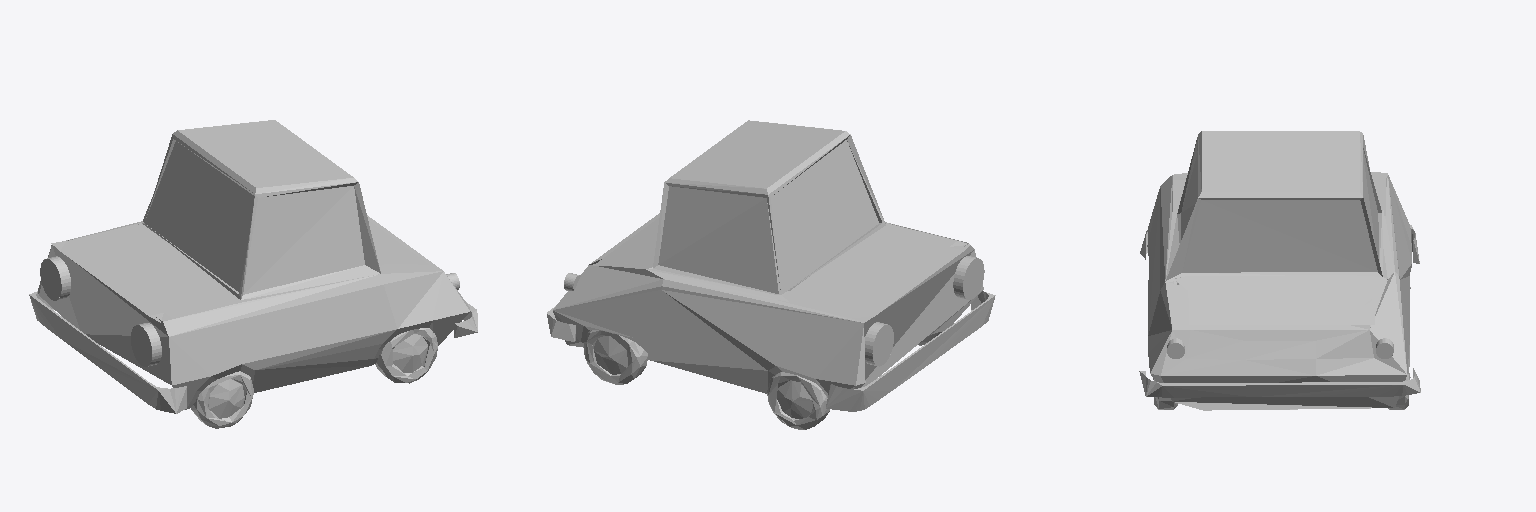
Rendered from car.obj.
3 views of the same model, side by side, from view 1: azimuth 30°, elevation 25°; view 2: azimuth 150°, elevation 25°; view 3: azimuth 270°, elevation 25° (orthographic).
Parts seen in each view (by area): view 1: Carro Carca_a Carca_a1 Carca_a2, Carro Plane_1, Carro Para-choques Para-choque_dianteiro Para-choque_dianteiro1, Carro Rodas Roda_traseira_esquerda Roda_traseira_esquerda1, Carro Rodas Roda_dianteira_esquerda Roda_dianteira_esquerda1, Carro Plane, Carro Luzes Farol_esquerdo Farol_esquerdo1, Carro Luzes Farol_direito Farol_direito1; view 2: Carro Carca_a Carca_a1 Carca_a2, Carro Plane_1, Carro Para-choques Para-choque_dianteiro Para-choque_dianteiro1, Carro Rodas Roda_dianteira_direita Roda_dianteira_direita1, Carro Rodas Roda_traseira_direita Roda_traseira_direita1, Carro Plane, Carro Luzes Farol_esquerdo Farol_esquerdo1, Carro Luzes Farol_direito Farol_direito1, Carro Para-choques Para-choque_traseiro Para-choque_traseiro1; view 3: Carro Carca_a Carca_a1 Carca_a2, Carro Plane, Carro Para-choques Para-choque_traseiro Para-choque_traseiro1, Carro Plane_1.
Boxes of the visible parts, x1,y1,x2,y2 form: Carro Carca_a Carca_a1 Carca_a2: [38, 120, 469, 409]; Carro Plane_1: [51, 223, 246, 322]; Carro Para-choques Para-choque_dianteiro Para-choque_dianteiro1: [29, 291, 186, 413]; Carro Rodas Roda_traseira_esquerda Roda_traseira_esquerda1: [375, 328, 437, 383]; Carro Rodas Roda_dianteira_esquerda Roda_dianteira_esquerda1: [191, 371, 253, 428]; Carro Plane: [368, 220, 428, 266]; Carro Luzes Farol_esquerdo Farol_esquerdo1: [131, 323, 161, 366]; Carro Luzes Farol_direito Farol_direito1: [40, 256, 70, 300]; Carro Carca_a Carca_a1 Carca_a2: [553, 120, 983, 397]; Carro Plane_1: [778, 223, 969, 322]; Carro Para-choques Para-choque_dianteiro Para-choque_dianteiro1: [826, 291, 995, 411]; Carro Rodas Roda_dianteira_direita Roda_dianteira_direita1: [767, 372, 829, 429]; Carro Rodas Roda_traseira_direita Roda_traseira_direita1: [584, 330, 647, 384]; Carro Plane: [593, 217, 659, 268]; Carro Luzes Farol_esquerdo Farol_esquerdo1: [953, 256, 984, 299]; Carro Luzes Farol_direito Farol_direito1: [865, 322, 893, 366]; Carro Para-choques Para-choque_traseiro Para-choque_traseiro1: [547, 306, 575, 341]; Carro Carca_a Carca_a1 Carca_a2: [1147, 131, 1411, 410]; Carro Plane: [1174, 275, 1386, 324]; Carro Para-choques Para-choque_traseiro Para-choque_traseiro1: [1139, 368, 1420, 397]; Carro Plane_1: [1173, 172, 1387, 215].
Size of the model in its own units: 2.69 by 1.67 by 2.01.